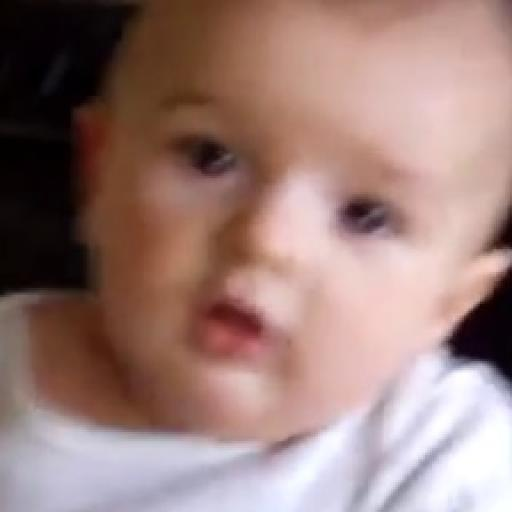Autism: (86, 5, 504, 512)
